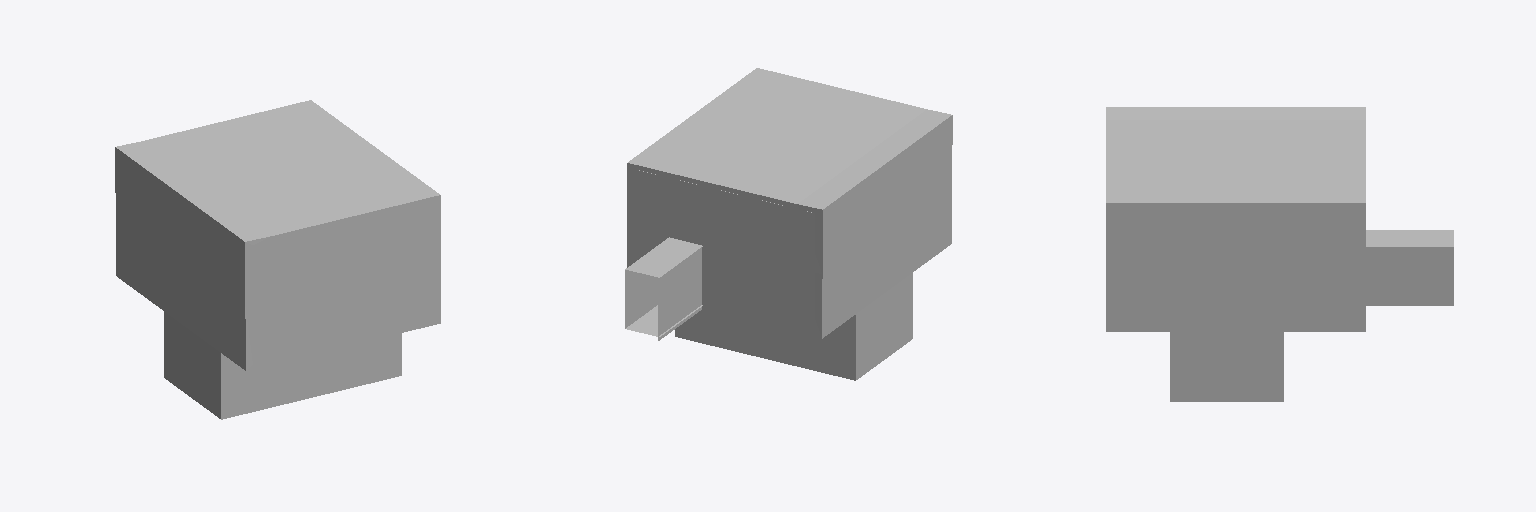
File: Capt Win'ar Tutorial Level.obj
The picture shows the model from 3 angles: view 1: azimuth 30°, elevation 25°; view 2: azimuth 150°, elevation 25°; view 3: azimuth 270°, elevation 25°; orthographic projection.
Parts seen in each view (by area): view 1: Cube; view 2: Cube; view 3: Cube.
Part boxes in pixels (bbox=[...]): Cube: bbox=[115, 100, 440, 419]; Cube: bbox=[625, 68, 952, 380]; Cube: bbox=[1106, 107, 1453, 401].
Bounding box in the file's own units: 14.89 × 14.77 × 22.91.